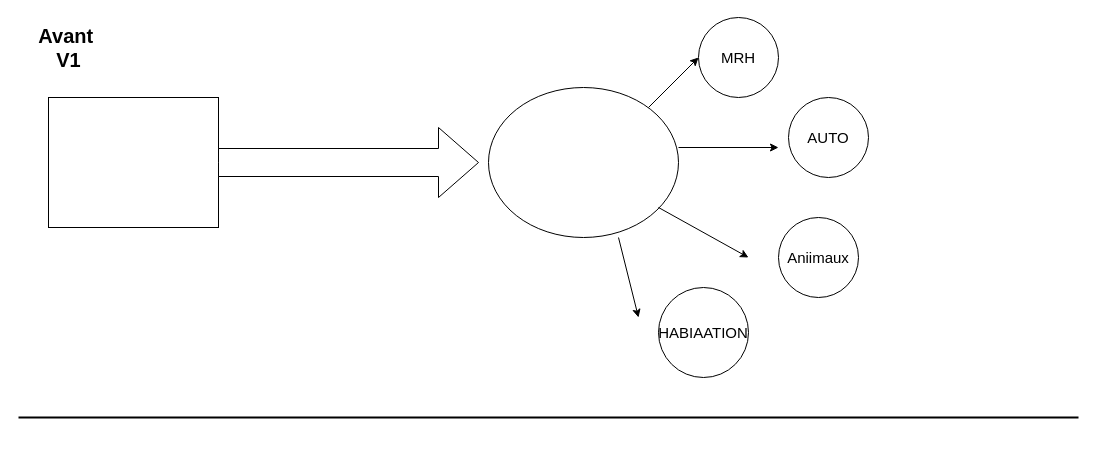
The diagram is 1096 pixels wide and 476 high, and some of its shapes have lost their labels. The centre of each missing label's shape, as x and y in pixels:
CMS EZ plateform: point (133, 162)
SI Carrefour: point (583, 162)
